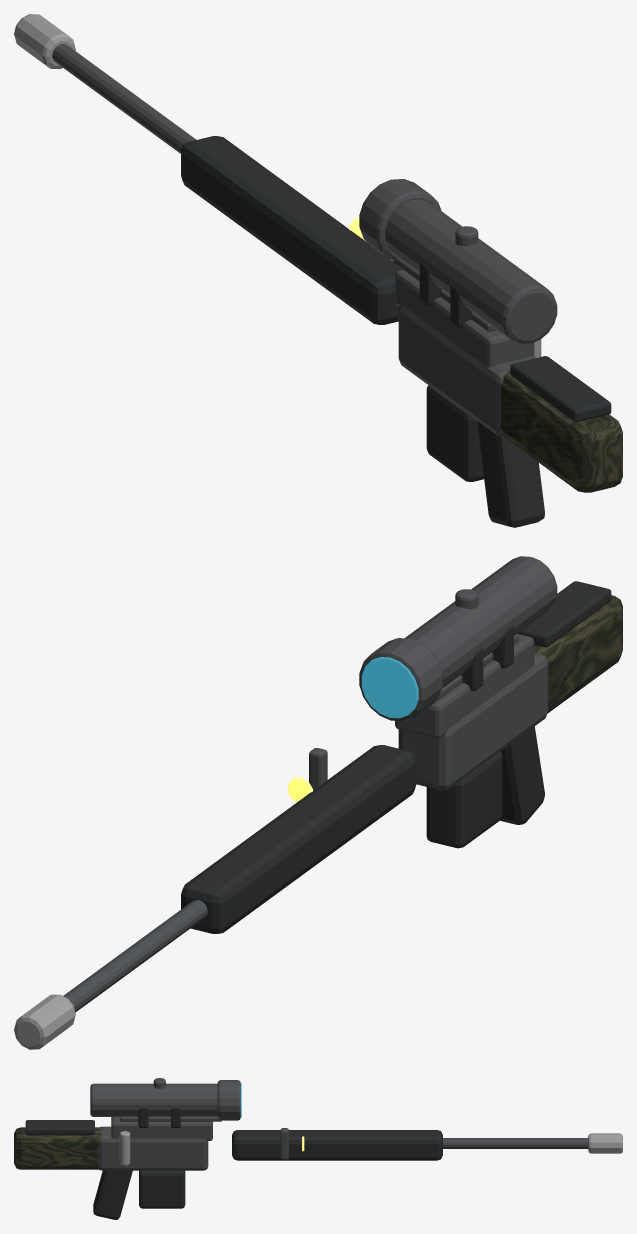
Rendered from wpn_sniper.glb.
3 renders of one model, top to bottom at view 1: azimuth 30°, elevation 25°; view 2: azimuth 150°, elevation 25°; view 3: azimuth 270°, elevation 25°, orthographic. The views are drawn at different scales.
Parts seen in each view (by area): view 1: Handguard.006, Scope.001, Stock.006, Receiver.003, PistolGrip.006, Upper.003, Mag.001, Cheek, Barrel.007, ScopeBell.001, MuzzleBrake.004; view 2: Handguard.006, Scope.001, Receiver.003, Stock.006, Mag.001, Upper.003, Barrel.007, PistolGrip.006, Cheek, ScopeGlass.001, ScopeBell.001, MuzzleBrake.004 (+1 smaller); view 3: Handguard.006, Scope.001, Receiver.003, Stock.006, Mag.001, Upper.003, Barrel.007, PistolGrip.006, Cheek, ScopeBell.001, MuzzleBrake.004, TopRail.006 (+3 smaller).
Boxes of the visible parts, box(x1,y1,x2,y2) form: Handguard.006: box(181, 136, 402, 324); Scope.001: box(385, 199, 557, 343); Stock.006: box(501, 371, 622, 492); Receiver.003: box(398, 305, 536, 436); PistolGrip.006: box(477, 421, 544, 527); Upper.003: box(395, 270, 534, 367); Mag.001: box(426, 385, 483, 481); Cheek: box(510, 356, 611, 422); Barrel.007: box(52, 44, 196, 153); ScopeBell.001: box(359, 179, 441, 260); MuzzleBrake.004: box(14, 14, 75, 69); Handguard.006: box(181, 745, 416, 933); Scope.001: box(405, 556, 557, 688); Receiver.003: box(398, 653, 548, 790); Stock.006: box(534, 595, 622, 713); Mag.001: box(426, 751, 502, 848); Upper.003: box(395, 634, 534, 738); Barrel.007: box(63, 900, 207, 1012); PistolGrip.006: box(500, 726, 544, 824); Cheek: box(517, 581, 611, 647); ScopeGlass.001: box(361, 657, 418, 718); ScopeBell.001: box(359, 638, 442, 721); MuzzleBrake.004: box(14, 994, 75, 1049); Handguard.006: box(232, 1130, 442, 1160); Scope.001: box(90, 1083, 217, 1116); Receiver.003: box(98, 1126, 208, 1170); Stock.006: box(14, 1127, 101, 1169); Mag.001: box(139, 1170, 185, 1208); Upper.003: box(111, 1117, 212, 1140); Barrel.007: box(443, 1138, 588, 1148); PistolGrip.006: box(93, 1170, 132, 1219); Cheek: box(25, 1120, 94, 1135); ScopeBell.001: box(217, 1080, 240, 1120); MuzzleBrake.004: box(588, 1133, 622, 1153); TopRail.006: box(120, 1116, 221, 1121).
Bounding box in the file's own units: 0.0995 × 0.3268 × 1.32.
6 materials, 1 textured.
